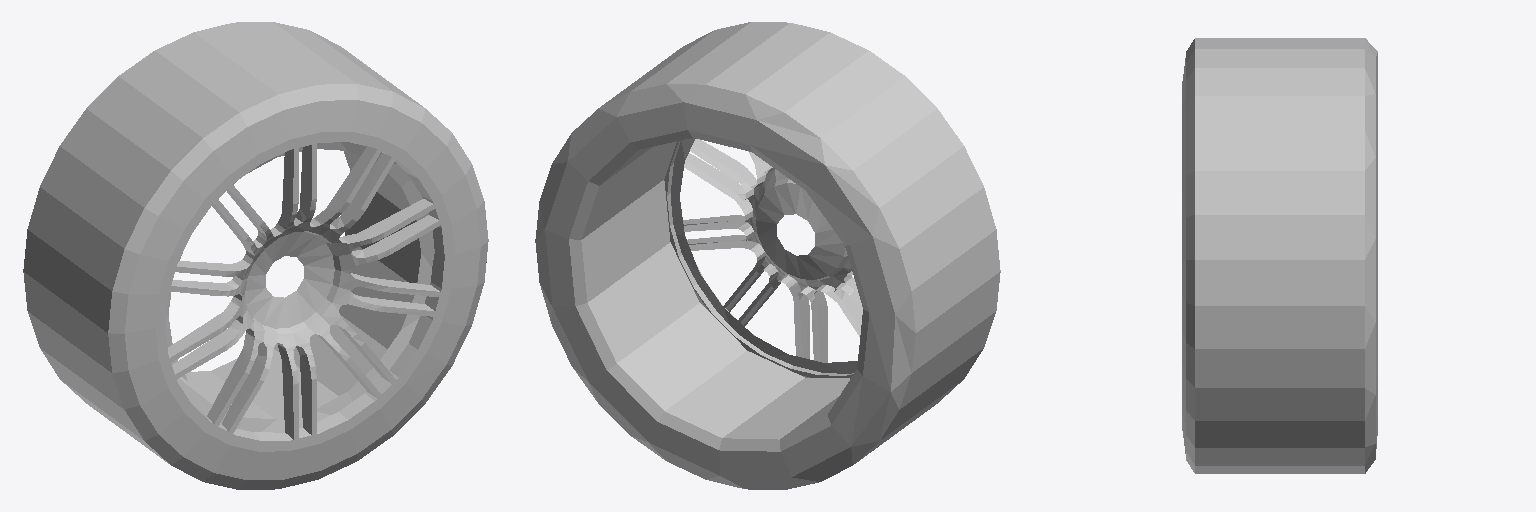
File: BMW_Wheel.obj
3 views of the same model, side by side, from view 1: azimuth 30°, elevation 25°; view 2: azimuth 150°, elevation 25°; view 3: azimuth 270°, elevation 25° (orthographic).
Visible parts, largest first — view 1: wheels_3.002; view 2: wheels_3.002; view 3: wheels_3.002.
Part boxes in pixels (x1,y1,x2,y2): wheels_3.002: (23,22,488,489); wheels_3.002: (535,22,1000,489); wheels_3.002: (1182,38,1377,473).
Size of the model in its own units: 1.31 by 1.3 by 0.583.